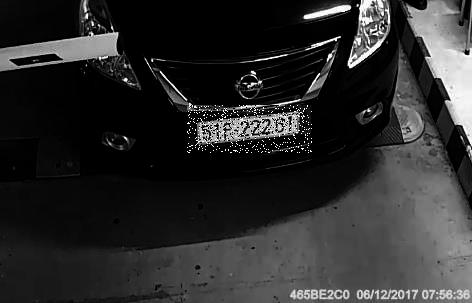License-plate: (189, 107, 314, 155)
